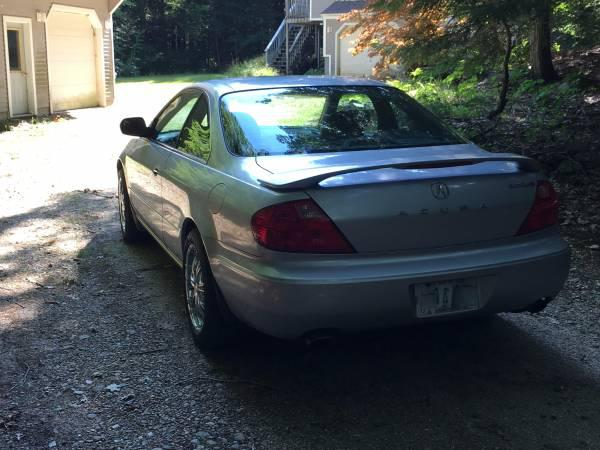acura: (105, 66, 586, 363)
